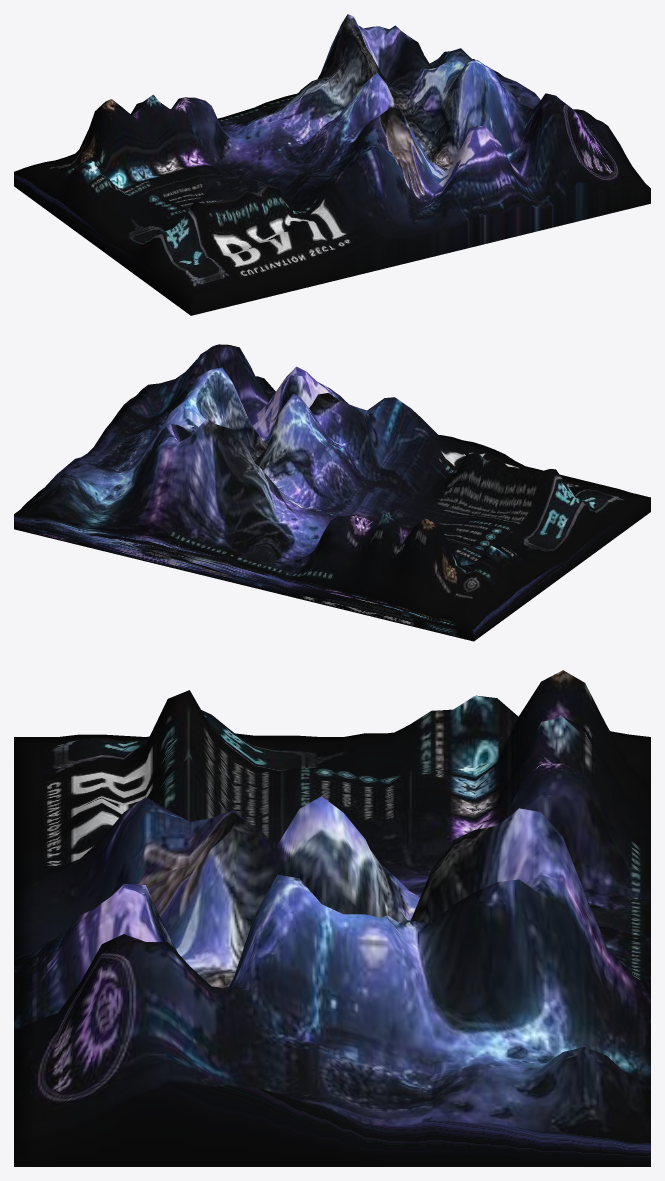
The model's file is SECT_06_Baji.glb.
The picture shows the model from 3 angles, top to bottom: view 1: azimuth 30°, elevation 25°; view 2: azimuth 150°, elevation 25°; view 3: azimuth 270°, elevation 25°; orthographic projection. The views are drawn at different scales.
Parts seen in each view (by area): view 1: SECT_06_Baji; view 2: SECT_06_Baji; view 3: SECT_06_Baji.
Part boxes in pixels (x1,y1,x2,y2): SECT_06_Baji: (14,14,650,315); SECT_06_Baji: (14,344,650,641); SECT_06_Baji: (14,670,650,1166).
Bounding box in the file's own units: 2 × 0.51 × 1.33.
Materials: 1 (1 with a texture image).
